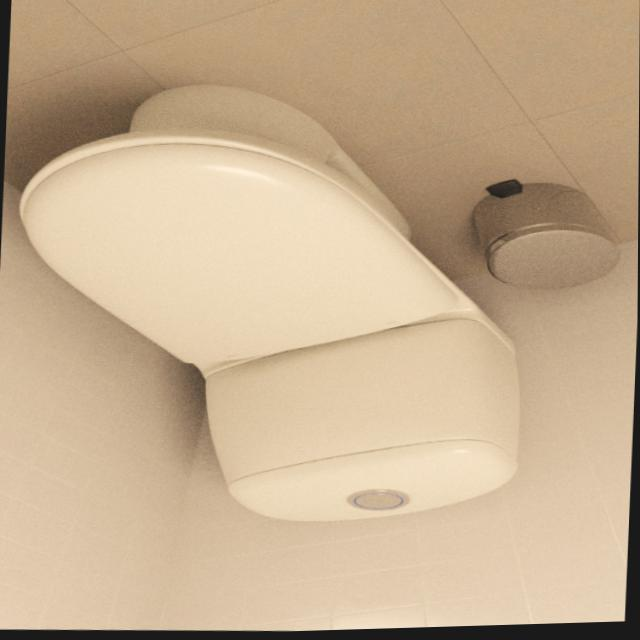toilet: (5, 71, 535, 539)
